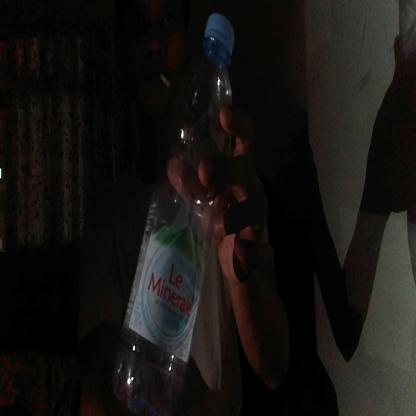plastic_bottles: (114, 12, 237, 416)
